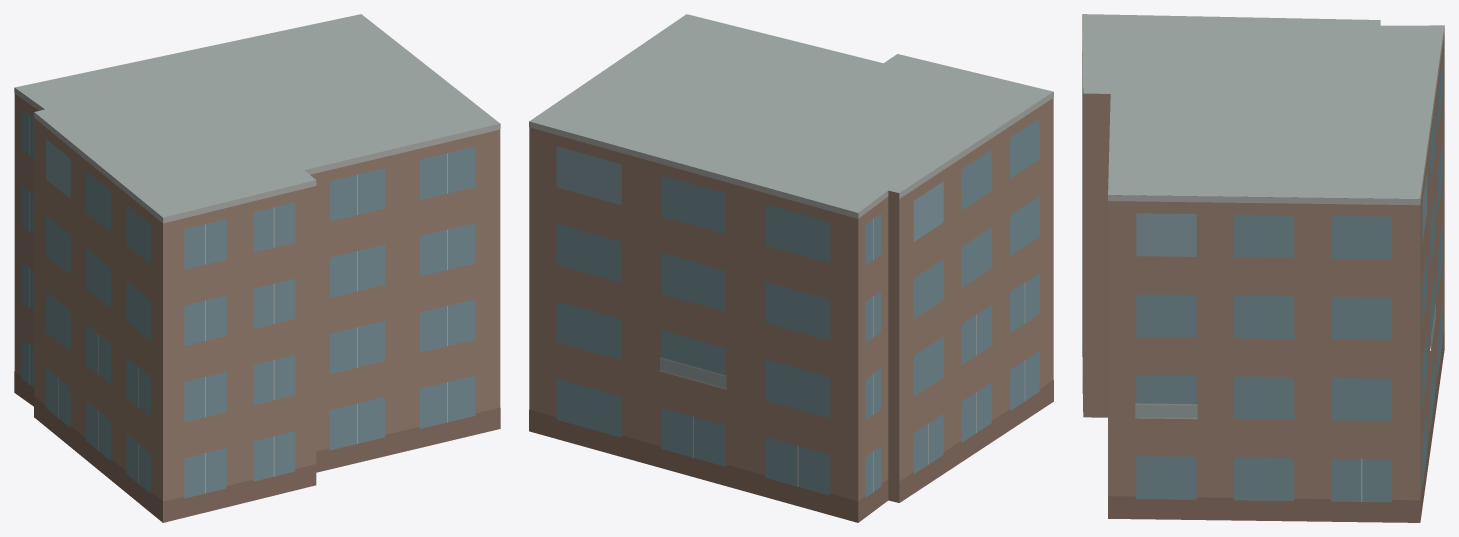
Rendered from survey-upis-32667164.glb.
3 views of the same model, side by side, from view 1: azimuth 30°, elevation 25°; view 2: azimuth 150°, elevation 25°; view 3: azimuth 270°, elevation 25° (orthographic). The views are drawn at different scales.
Visible parts, largest first — view 1: survey-upis-32667164.tmp; view 2: survey-upis-32667164.tmp; view 3: survey-upis-32667164.tmp.
Part boxes in pixels (x1,y1,x2,y2): survey-upis-32667164.tmp: [14, 14, 500, 522]; survey-upis-32667164.tmp: [529, 14, 1053, 522]; survey-upis-32667164.tmp: [1082, 14, 1444, 522].
Bounding box in the file's own units: 15.7 × 12.8 × 12.98.
